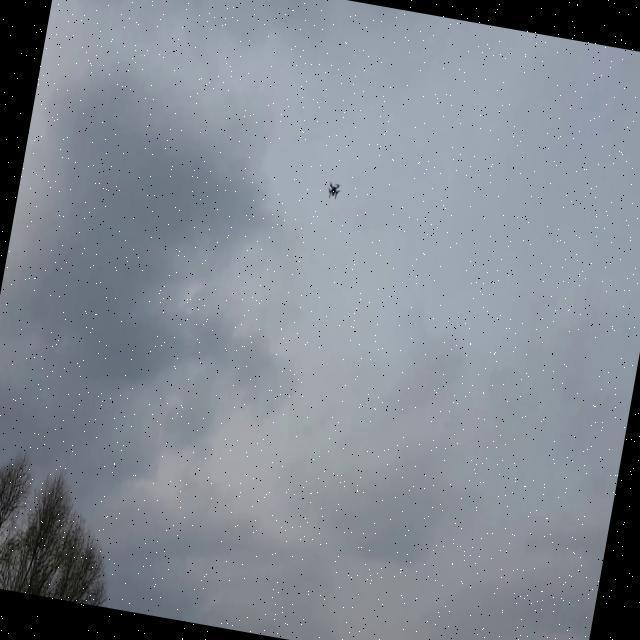Drons: (322, 179, 345, 202)
